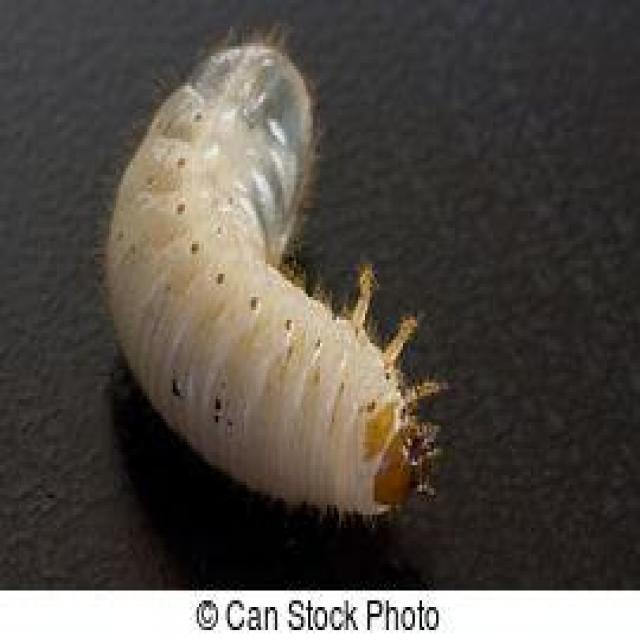Grub-Adult-: (85, 20, 457, 537)
